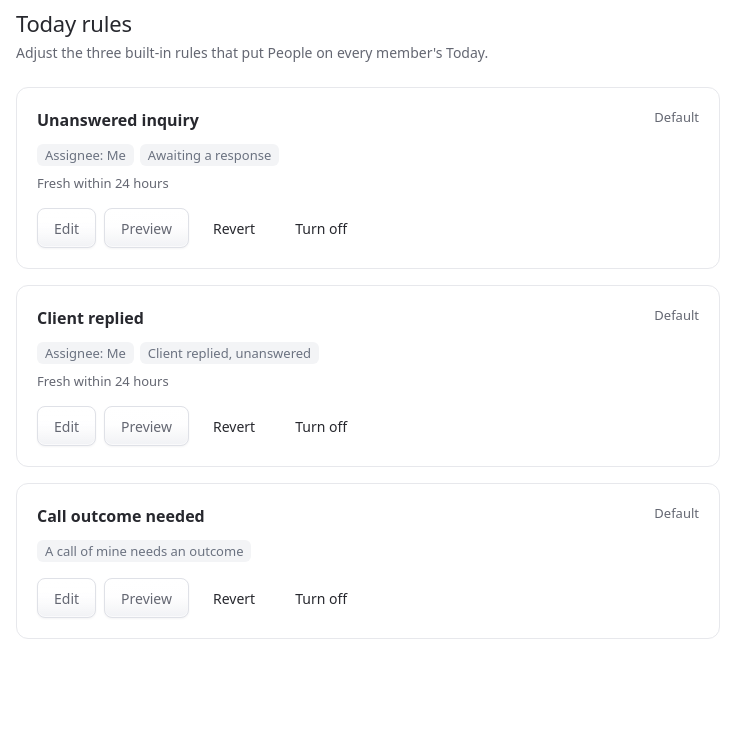
Test case: TodayFeedsView save and the 409 reload flow › keeps the editor open with an error notice when the post-409 reload itself fails
This screenshot has width=737, height=756.
Click the button with test id "feed-edit-unanswered_inquiry": [67, 228] box x1=37 y1=208 x2=96 y2=248
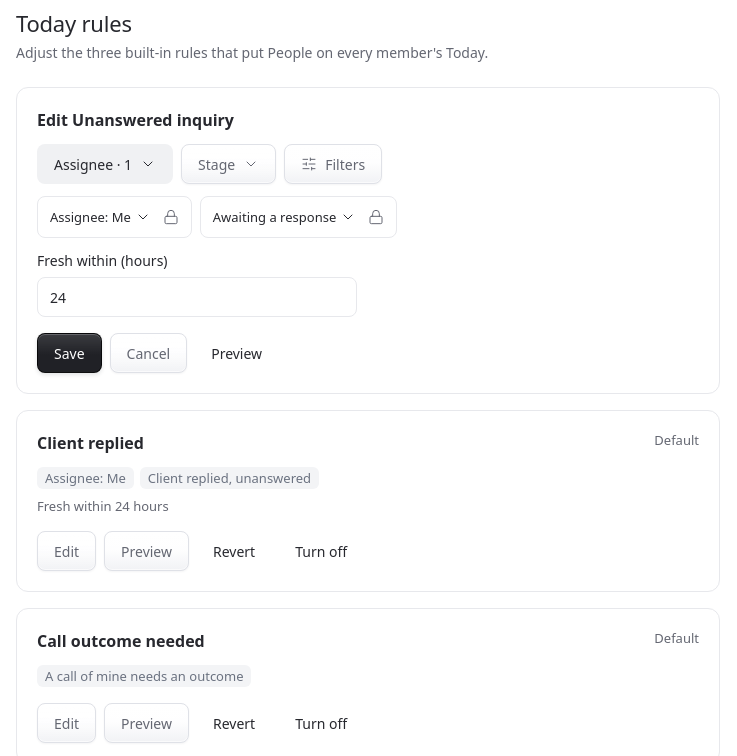
Click the button with test id "feed-save-unanswered_inquiry": [69, 353] box x1=37 y1=333 x2=102 y2=373
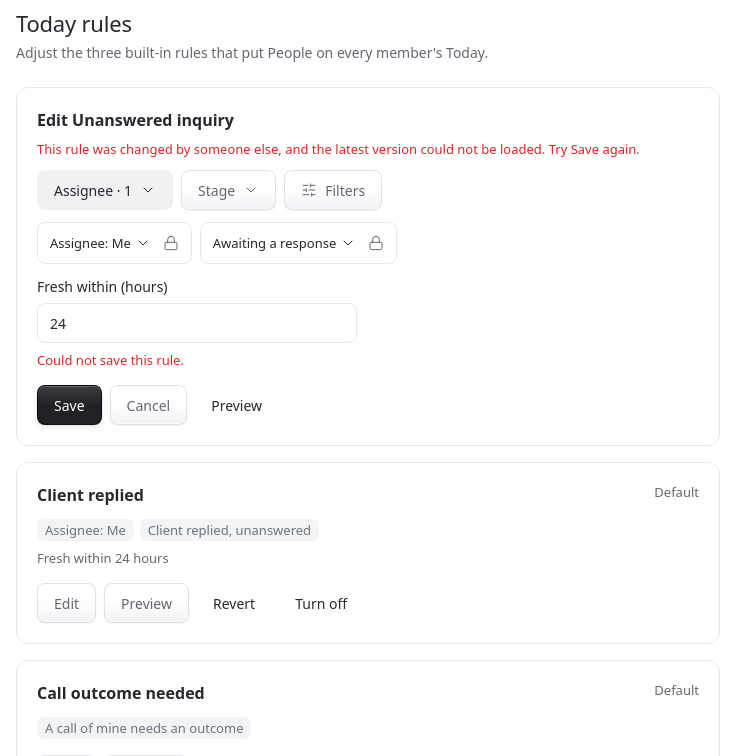
expect the button with test id "feed-save-unanswered_inquiry" is shown: met, box x1=37 y1=385 x2=102 y2=425
expect the number field with test id "feed-fresh-hours" is shown: met, box x1=37 y1=303 x2=357 y2=343
expect the message with test id "feed-edit-notice-unanswered_inquiry" shows "This rule was changed by someone else, and the latest version could not be loaded. Try Save again.": met, box x1=37 y1=140 x2=640 y2=158
